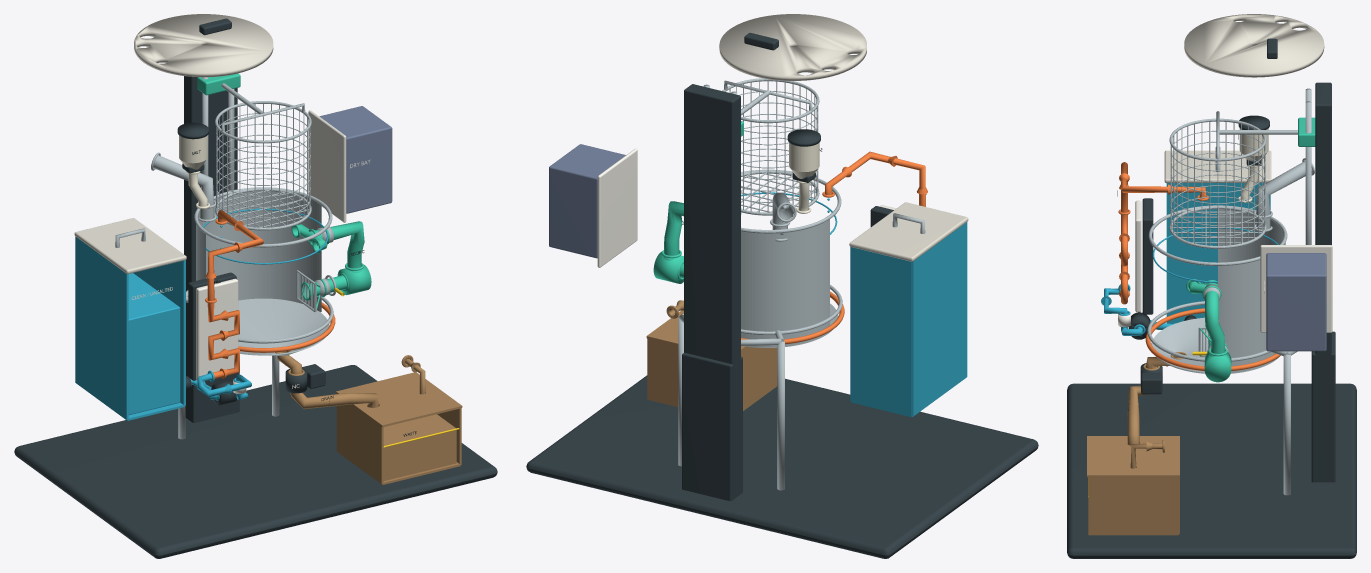
Rendered from pasta-cooker-v2-exploded.glb.
3 renders of one model, left to right at view 1: azimuth 30°, elevation 25°; view 2: azimuth 150°, elevation 25°; view 3: azimuth 270°, elevation 25°, orthographic. The views are drawn at different scales.
Visible parts, largest first — view 1: Chassis drip containment base, Vessel rear half, Tank left wall, Removable chamber lid, Unsalted clean water visual, Dry electronics compartment, Lift drive mast, Waste max fill water visual, Sloped floor with open low point, Waste lid, Tank lid, Wet dry barrier (+17 smaller); view 2: Chassis drip containment base, Lift drive mast, Tank rear wall, Vessel rear half, Tank left wall, Mast lower structural pedestal, Removable chamber lid, Dry electronics compartment, Wet dry barrier, Tank lid, Waste rear wall, Waste left wall (+9 smaller); view 3: Chassis drip containment base, Removable chamber lid, Vessel rear half, Dry electronics compartment, Tank right wall, Waste right wall, Waste lid, Mast lower structural pedestal, Lift drive mast, Tank lid, Sloped floor with open low point, Wet dry barrier (+20 smaller).
Boxes of the visible parts, box(x1,y1,x2,y2) form: Chassis drip containment base: box(14, 365, 497, 558); Vessel rear half: box(196, 191, 333, 312); Tank left wall: box(75, 236, 128, 419); Removable chamber lid: box(134, 14, 273, 77); Unsalted clean water visual: box(128, 273, 180, 414); Dry electronics compartment: box(319, 106, 392, 213); Lift drive mast: box(184, 76, 237, 291); Waste max fill water visual: box(383, 414, 456, 480); Sloped floor with open low point: box(238, 298, 329, 355); Waste lid: box(336, 372, 462, 427); Tank lid: box(74, 218, 186, 273); Wet dry barrier: box(308, 110, 346, 222); Chassis drip containment base: box(526, 375, 1038, 558); Lift drive mast: box(684, 84, 740, 364); Tank rear wall: box(851, 247, 912, 416); Vessel rear half: box(741, 219, 829, 347); Tank left wall: box(912, 222, 967, 416); Mast lower structural pedestal: box(682, 352, 742, 501); Removable chamber lid: box(719, 14, 866, 80); Dry electronics compartment: box(549, 144, 625, 258); Wet dry barrier: box(597, 148, 637, 267); Tank lid: box(849, 202, 968, 261); Waste rear wall: box(647, 339, 678, 406); Waste left wall: box(741, 346, 777, 410); Chassis drip containment base: box(1067, 383, 1356, 558); Removable chamber lid: box(1184, 14, 1324, 77); Vessel rear half: box(1203, 209, 1285, 373); Dry electronics compartment: box(1266, 253, 1326, 351); Tank right wall: box(1166, 183, 1263, 323); Waste right wall: box(1088, 477, 1178, 534); Waste lid: box(1087, 436, 1179, 477); Mast lower structural pedestal: box(1311, 331, 1335, 482); Lift drive mast: box(1315, 82, 1331, 355); Tank lid: box(1164, 150, 1271, 183); Sloped floor with open low point: box(1151, 317, 1277, 373); Wet dry barrier: box(1260, 245, 1332, 332).
Bounding box in the file's own units: 0.66 × 0.788 × 0.48.
